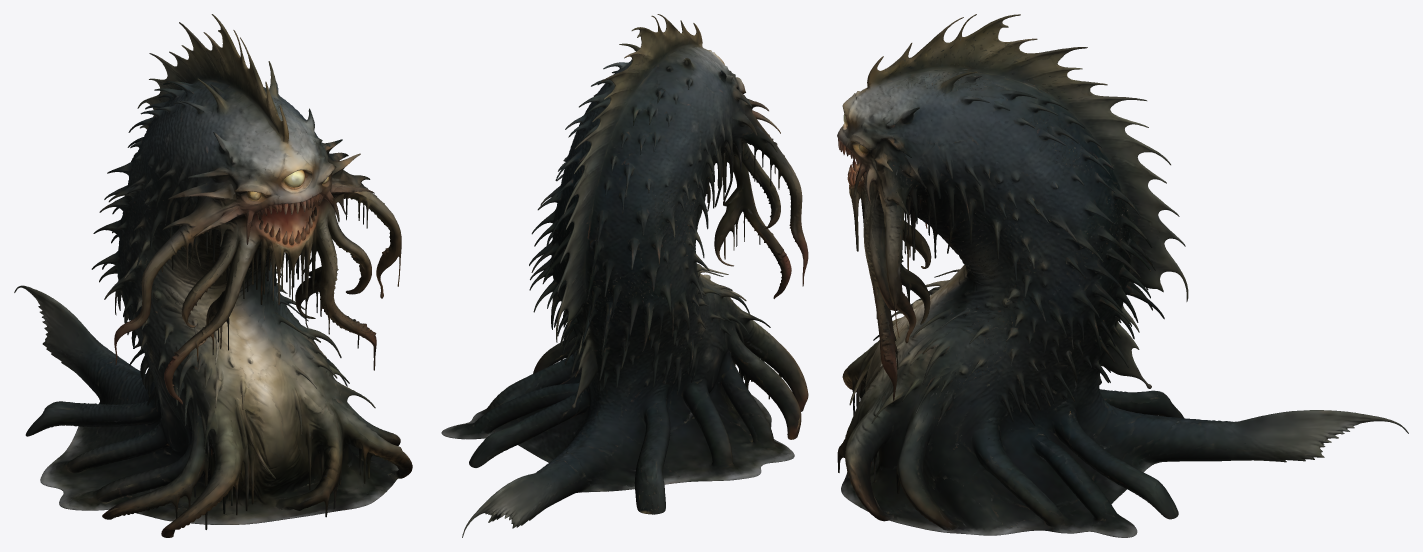
The model's file is Aboleth.glb.
3 views of the same model, side by side, from view 1: azimuth 30°, elevation 25°; view 2: azimuth 150°, elevation 25°; view 3: azimuth 270°, elevation 25° (orthographic). The views are drawn at different scales.
Parts seen in each view (by area): view 1: material; view 2: material; view 3: material.
Part boxes in pixels (x1,y1,x2,y2): material: [14, 14, 412, 537]; material: [441, 14, 808, 537]; material: [837, 14, 1408, 537].
Size of the model in its own units: 0.5918 by 0.794 by 0.904.
Materials: 1 (1 with a texture image).
